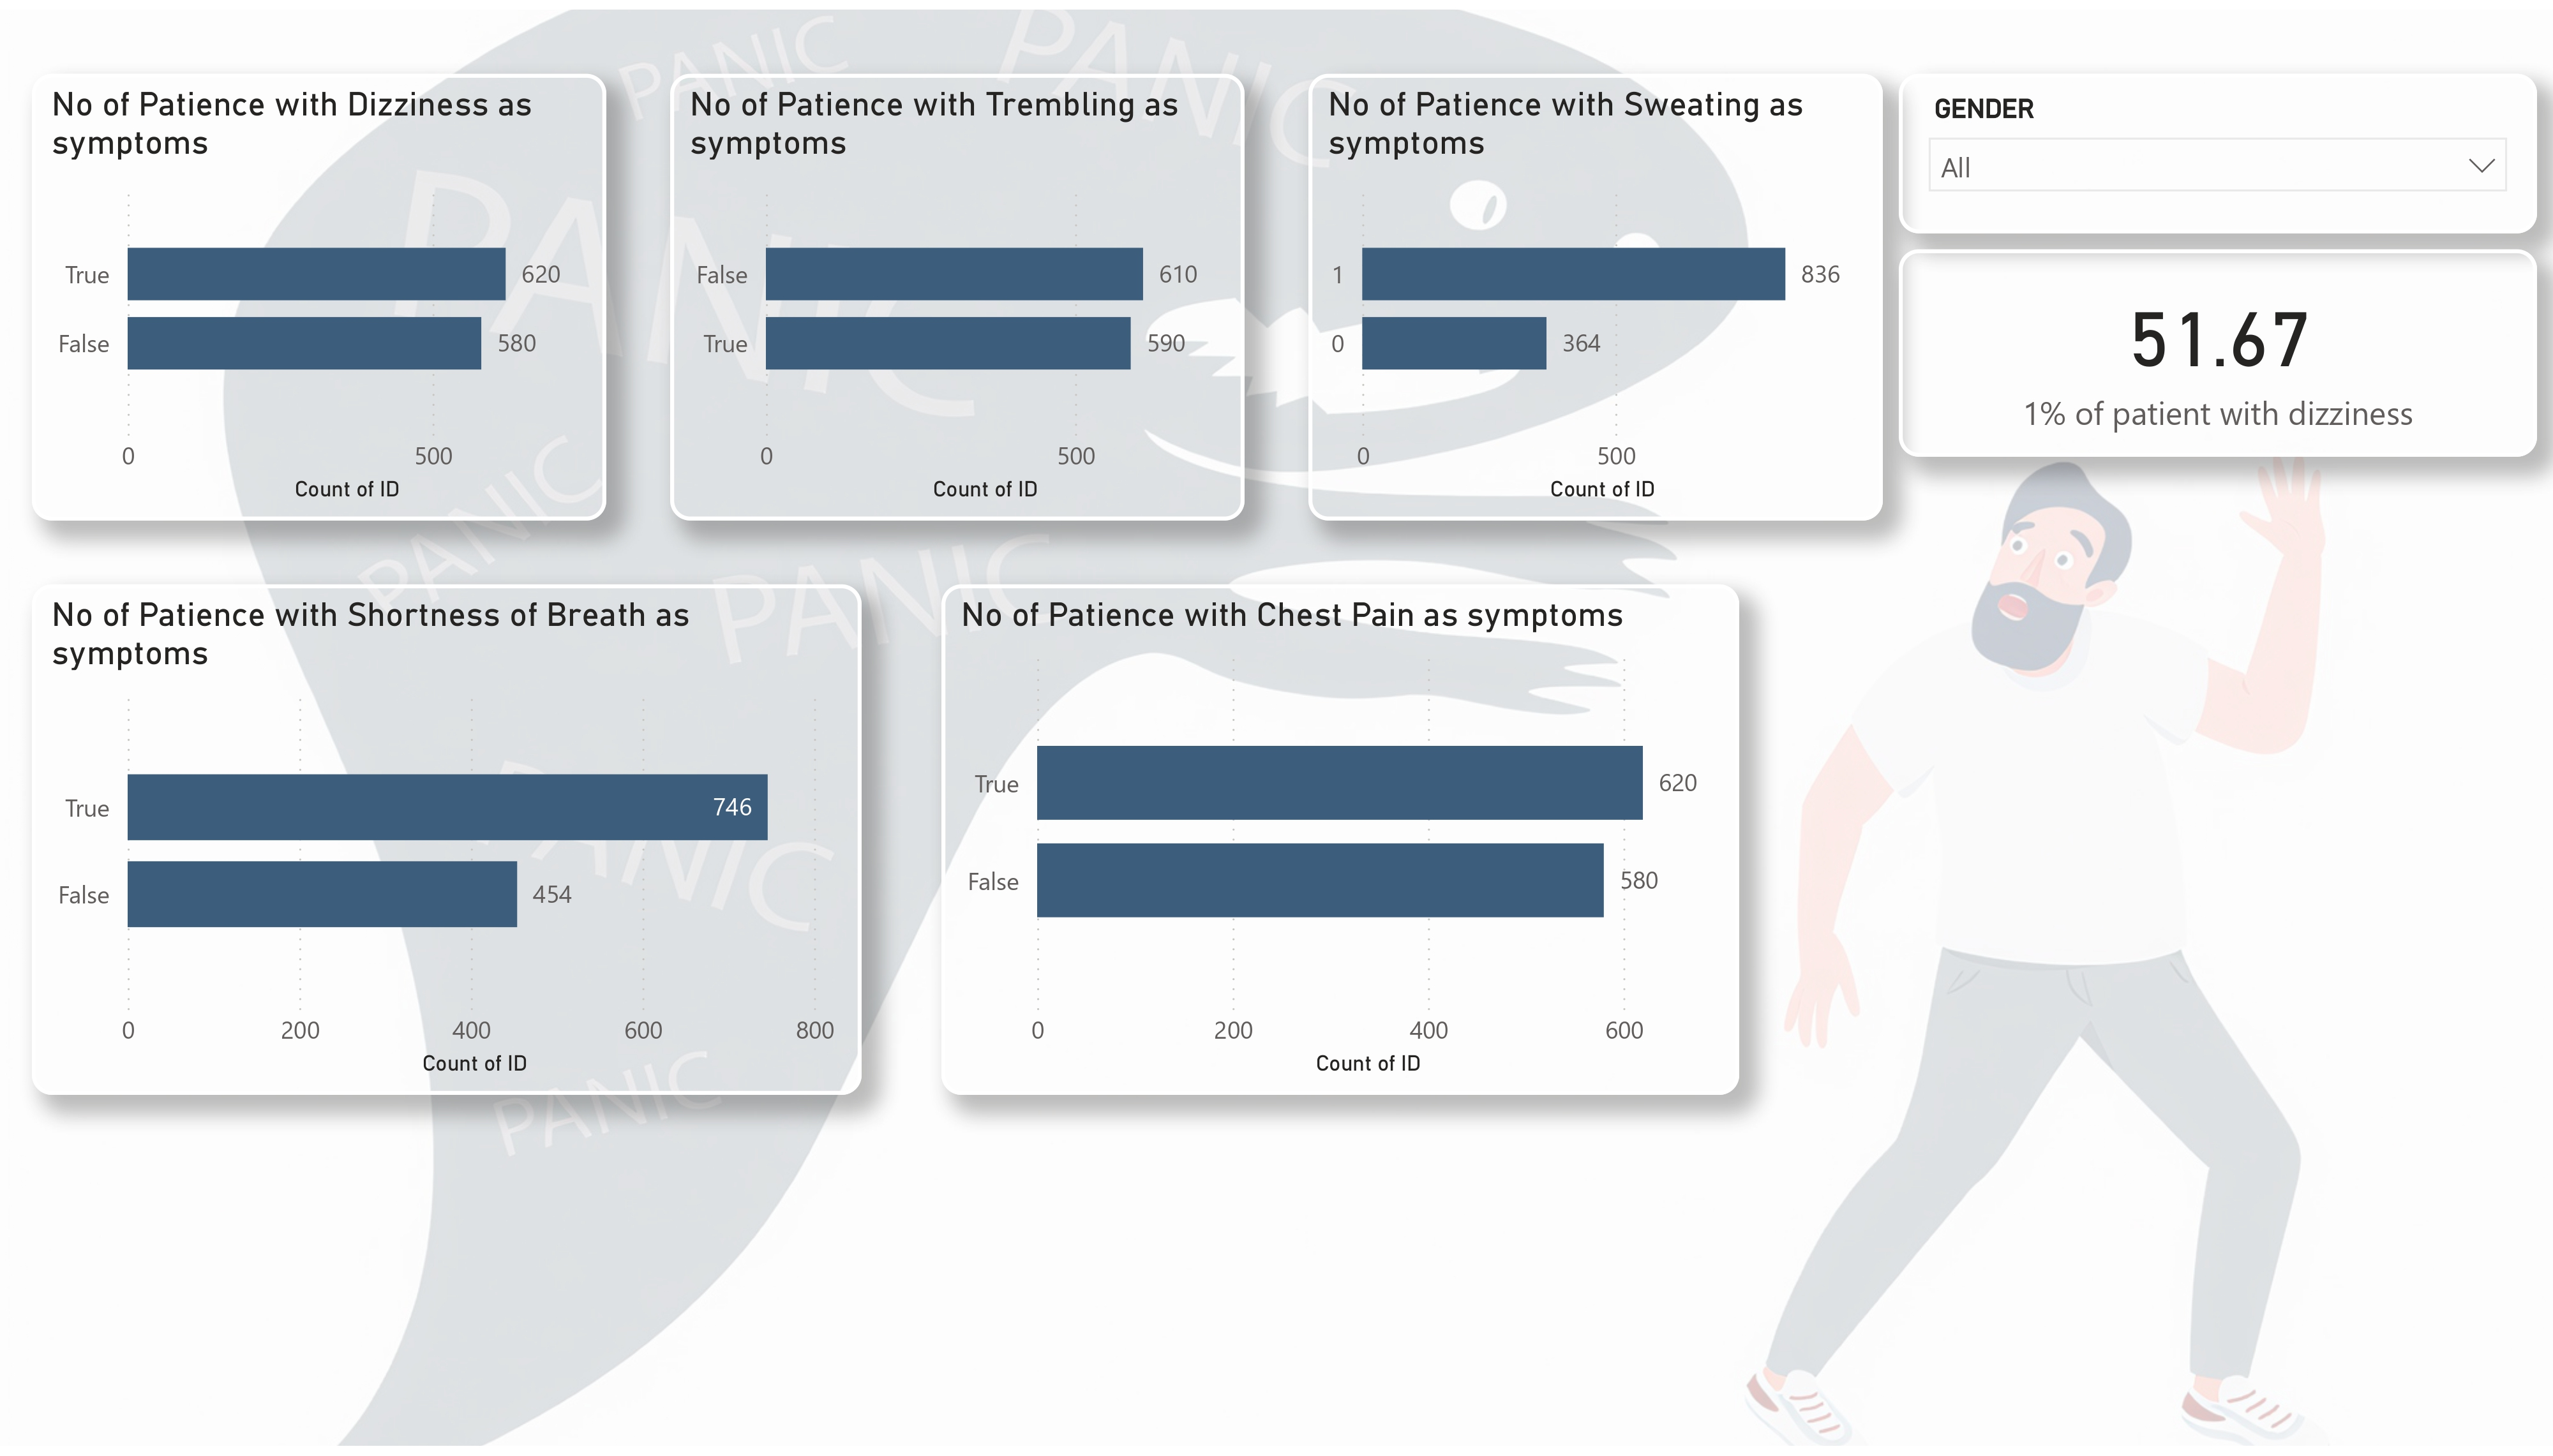

What the dashboard file says about the page in this screenshot:
{"tool":"powerbi","page":{"name":"NO OF PATIENTS BY SYMPTOMS","canvas":[1280,720],"ordinal":1},"visuals":[{"type":"barChart","title":"No of Patience with Dizziness  as symptoms","fields":{"Category":["PANIC_ATTACK_DATA.DIZZINESS"],"Y":["CountNonNull(PANIC_ATTACK_DATA.ID)"]},"box":[16,32,288,224],"z":0},{"type":"barChart","title":"No of Patience with Trembling as symptoms","fields":{"Category":["PANIC_ATTACK_DATA.TREMBLING"],"Y":["CountNonNull(PANIC_ATTACK_DATA.ID)"]},"box":[336,32,288,224],"z":1000},{"type":"barChart","title":"No of Patience with Sweating as symptoms","fields":{"Category":["PANIC_ATTACK_DATA.SWEATING"],"Y":["CountNonNull(PANIC_ATTACK_DATA.ID)"]},"box":[656,32,288,224],"z":2000},{"type":"barChart","title":"No of Patience with  Shortness of Breath as symptoms","fields":{"Category":["PANIC_ATTACK_DATA.SHORTNESS_OF_BREATH"],"Y":["CountNonNull(PANIC_ATTACK_DATA.ID)"]},"box":[16,288,416,256],"z":3000},{"type":"barChart","title":"No of Patience with Chest Pain  as symptoms","fields":{"Category":["PANIC_ATTACK_DATA.DIZZINESS"],"Y":["CountNonNull(PANIC_ATTACK_DATA.ID)"]},"box":[472,288,400,256],"z":4000},{"type":"slicer","title":"GENDER","fields":{"Values":["PANIC_ATTACK_DATA.GENDER"]},"box":[952,32,320,80],"z":5000},{"type":"card","fields":{"Values":["Table.1% of patient with dizziness"]},"box":[952,120,320,104],"z":5001}]}

Visuals, with their boxes in screenshot pixels (x1, y1, x2, y2), scaled from the page's 1280x720 canvas onto the 2553x1456 screenshot:
"No of Patience with Dizziness  as symptoms" barChart: bbox=(32, 64, 606, 517)
"No of Patience with Trembling as symptoms" barChart: bbox=(670, 64, 1245, 517)
"No of Patience with Sweating as symptoms" barChart: bbox=(1308, 64, 1883, 517)
"No of Patience with  Shortness of Breath as symptoms" barChart: bbox=(32, 583, 862, 1100)
"No of Patience with Chest Pain  as symptoms" barChart: bbox=(941, 583, 1739, 1100)
"GENDER" slicer: bbox=(1899, 64, 2537, 227)
card - Table.1% of patient with dizziness: bbox=(1899, 242, 2537, 453)
